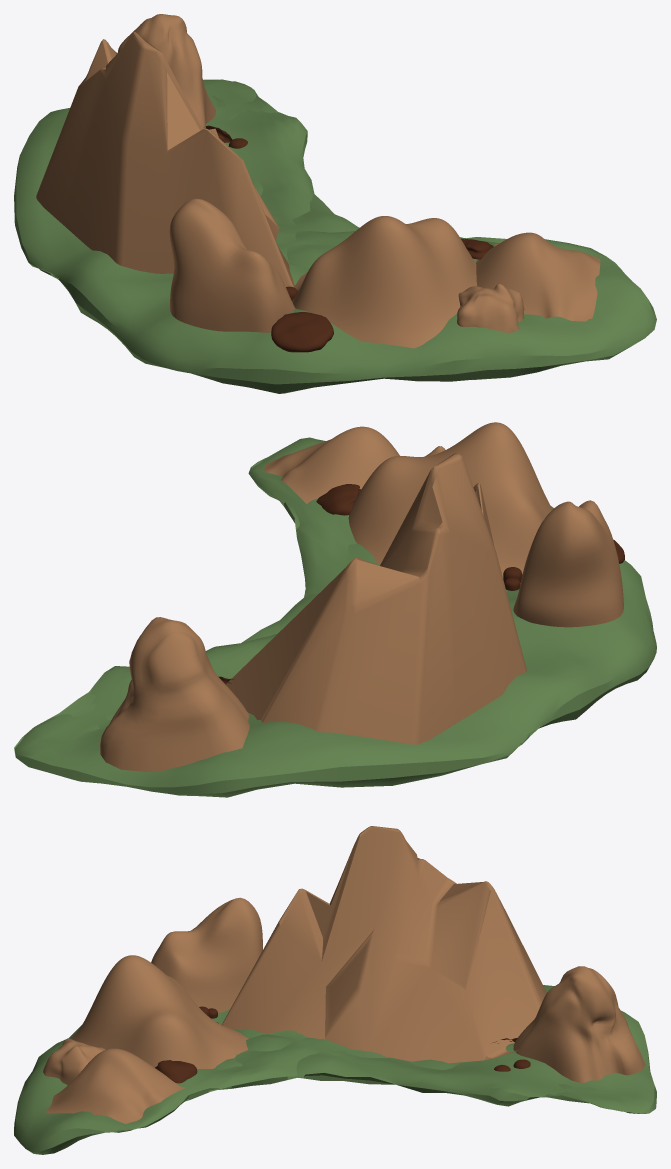
Rendered from High mountain.glb.
3 views of the same model, one above another, from view 1: azimuth 30°, elevation 25°; view 2: azimuth 150°, elevation 25°; view 3: azimuth 270°, elevation 25° (orthographic). The views are drawn at different scales.
Visible parts, largest first — view 1: Cube.014, Cube.013, Cube.040, 立方体.001, Cube, Cube.002, Cube.088; view 2: Cube.013, Cube.014, Cube.040, Cube, 立方体.001, 立方体.004; view 3: Cube.013, Cube.014, Cube.040, Cube, 立方体.001, Cube.002, 立方体.004.
Part boxes in pixels (left/top/right/bottom): Cube.014: left=14, top=79, right=656, bottom=393; Cube.013: left=36, top=32, right=294, bottom=287; Cube.040: left=292, top=216, right=600, bottom=348; 立方体.001: left=169, top=198, right=294, bottom=332; Cube: left=117, top=14, right=215, bottom=129; Cube.002: left=457, top=284, right=524, bottom=332; Cube.088: left=271, top=312, right=333, bottom=352; Cube.013: left=226, top=452, right=526, bottom=744; Cube.014: left=14, top=437, right=656, bottom=797; Cube.040: left=264, top=422, right=552, bottom=583; Cube: left=100, top=617, right=249, bottom=772; 立方体.001: left=513, top=500, right=623, bottom=627; 立方体.004: left=316, top=484, right=360, bottom=515; Cube.013: left=222, top=826, right=546, bottom=1063; Cube.014: left=14, top=985, right=656, bottom=1154; Cube.040: left=45, top=955, right=248, bottom=1123; Cube: left=513, top=966, right=645, bottom=1082; 立方体.001: left=151, top=897, right=262, bottom=1012; Cube.002: left=43, top=1039, right=104, bottom=1084; 立方体.004: left=155, top=1060, right=197, bottom=1083.
Bounding box in the file's own units: 38.91 × 21.73 × 59.91.
